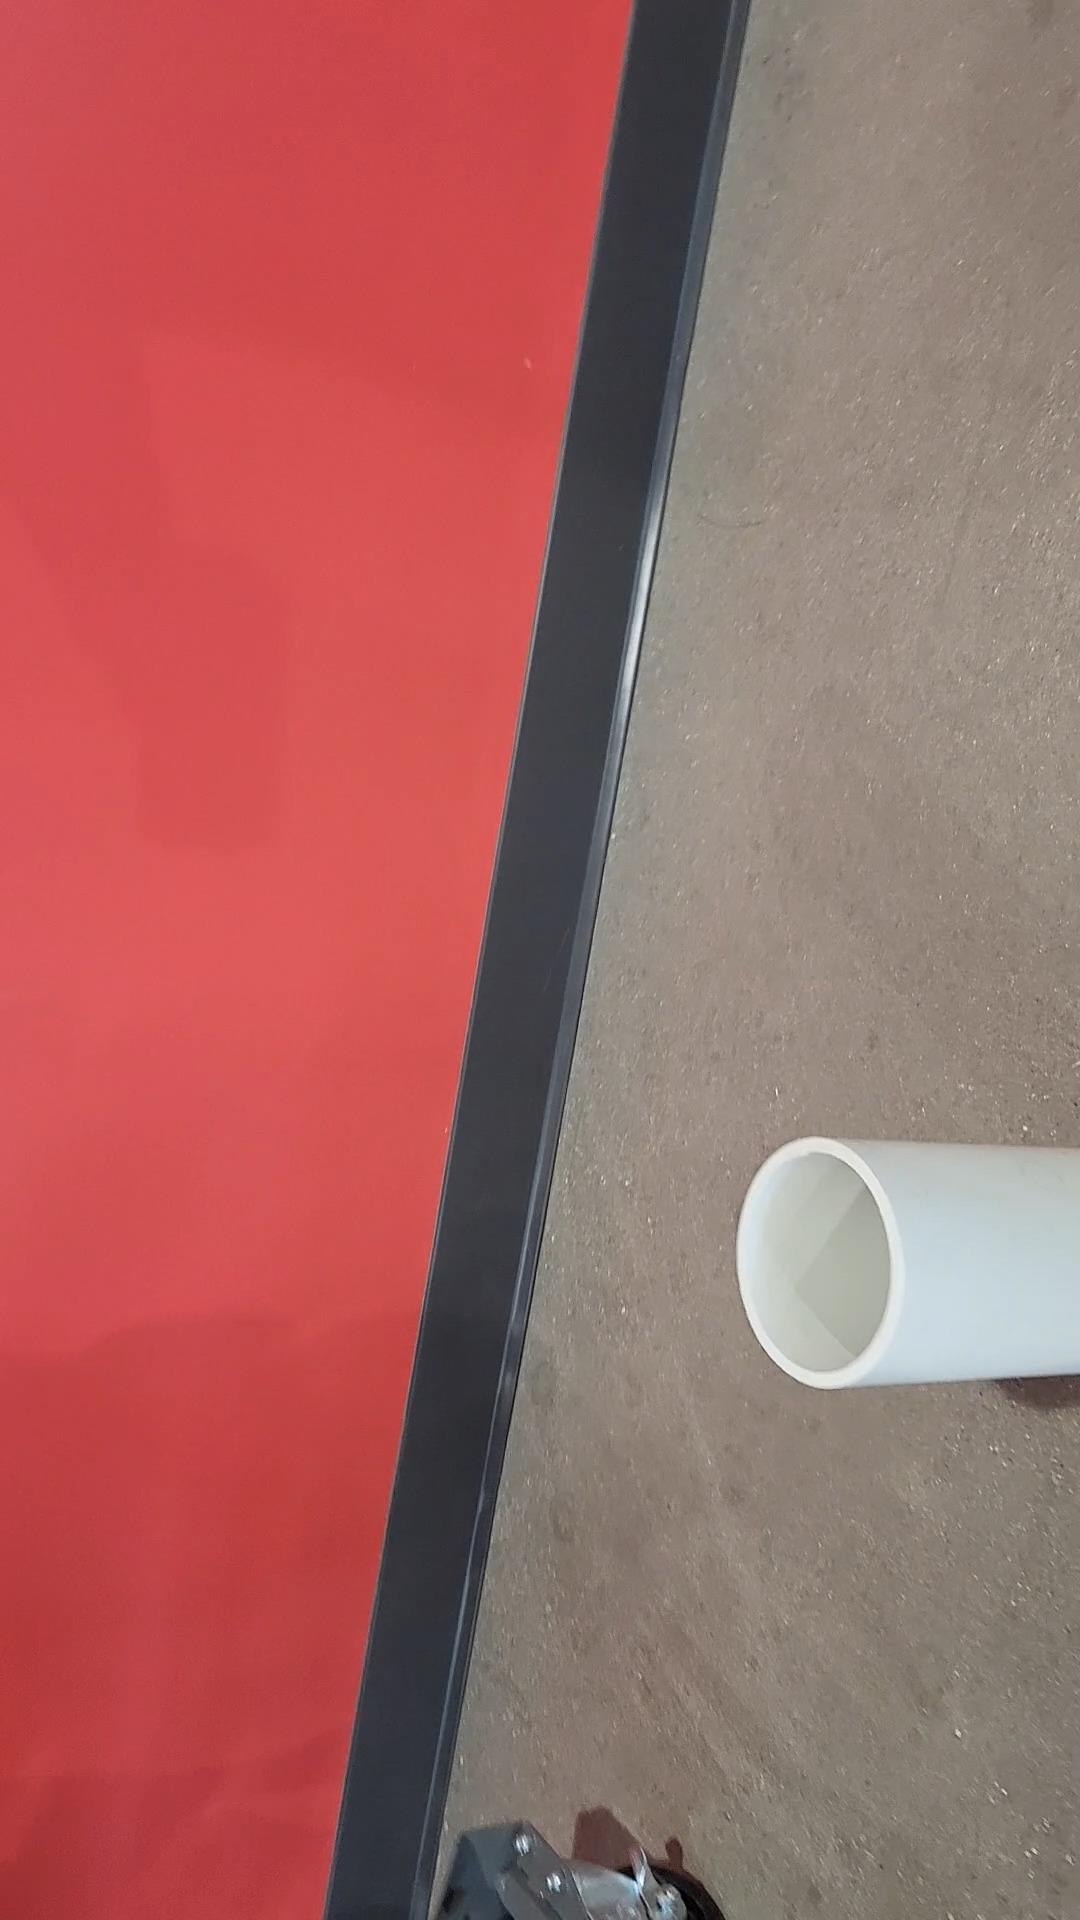coral: (727, 1125, 1080, 1400)
